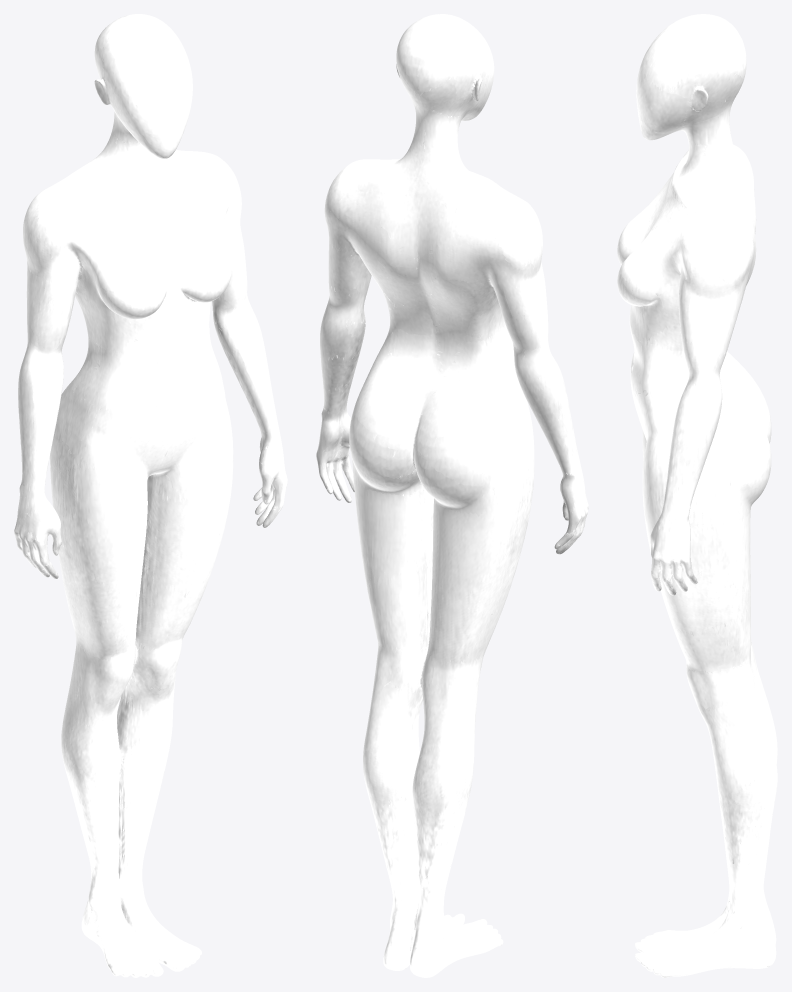
Rendered from Glowing lady.glb.
3 views of the same model, side by side, from view 1: azimuth 30°, elevation 25°; view 2: azimuth 150°, elevation 25°; view 3: azimuth 270°, elevation 25° (orthographic).
Size of the model in its own units: 0.5928 by 2 by 0.309.
1 material, 1 textured.
